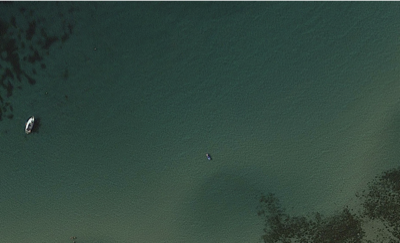boat: (24, 114, 36, 135), (205, 152, 213, 161)
